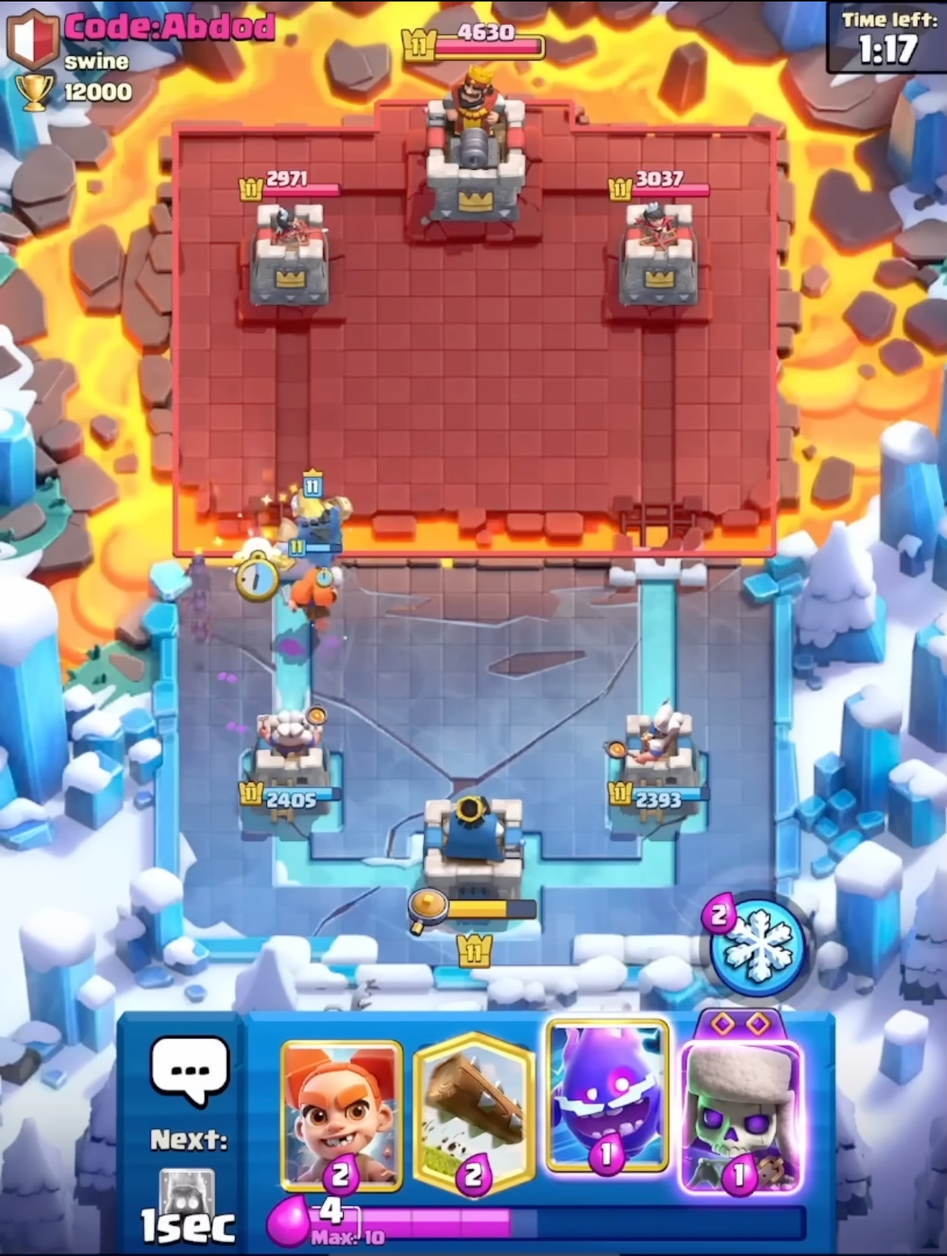hero-ice-golem: (270, 465, 355, 579)
